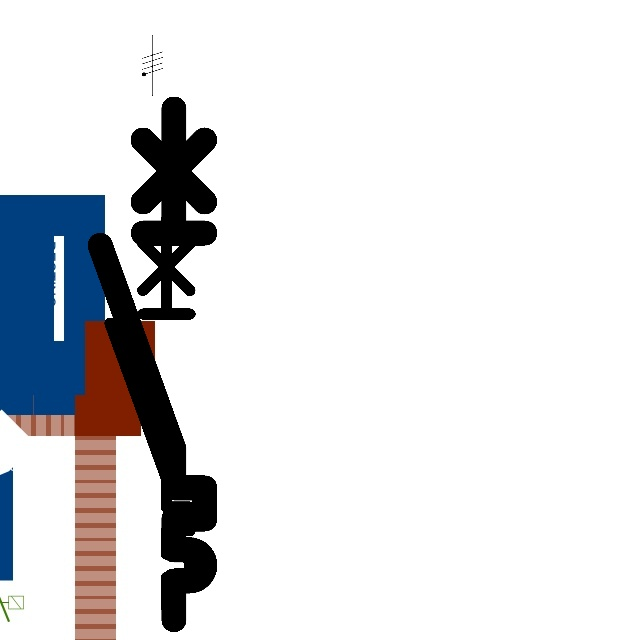interruptor_termomagnetico: (87, 95, 218, 632), (100, 210, 200, 617)
